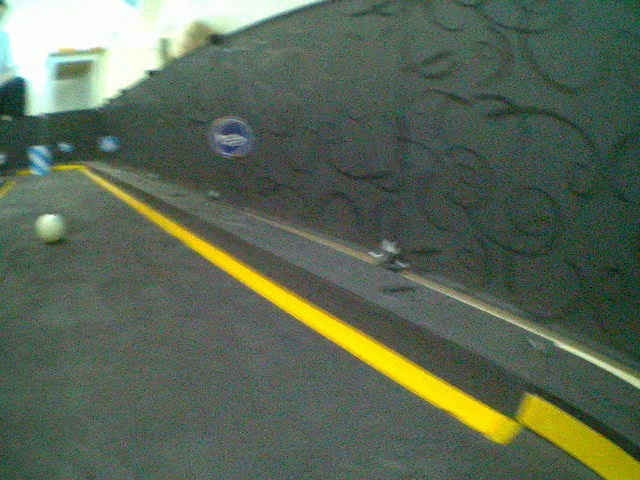ball: (36, 213, 69, 246)
